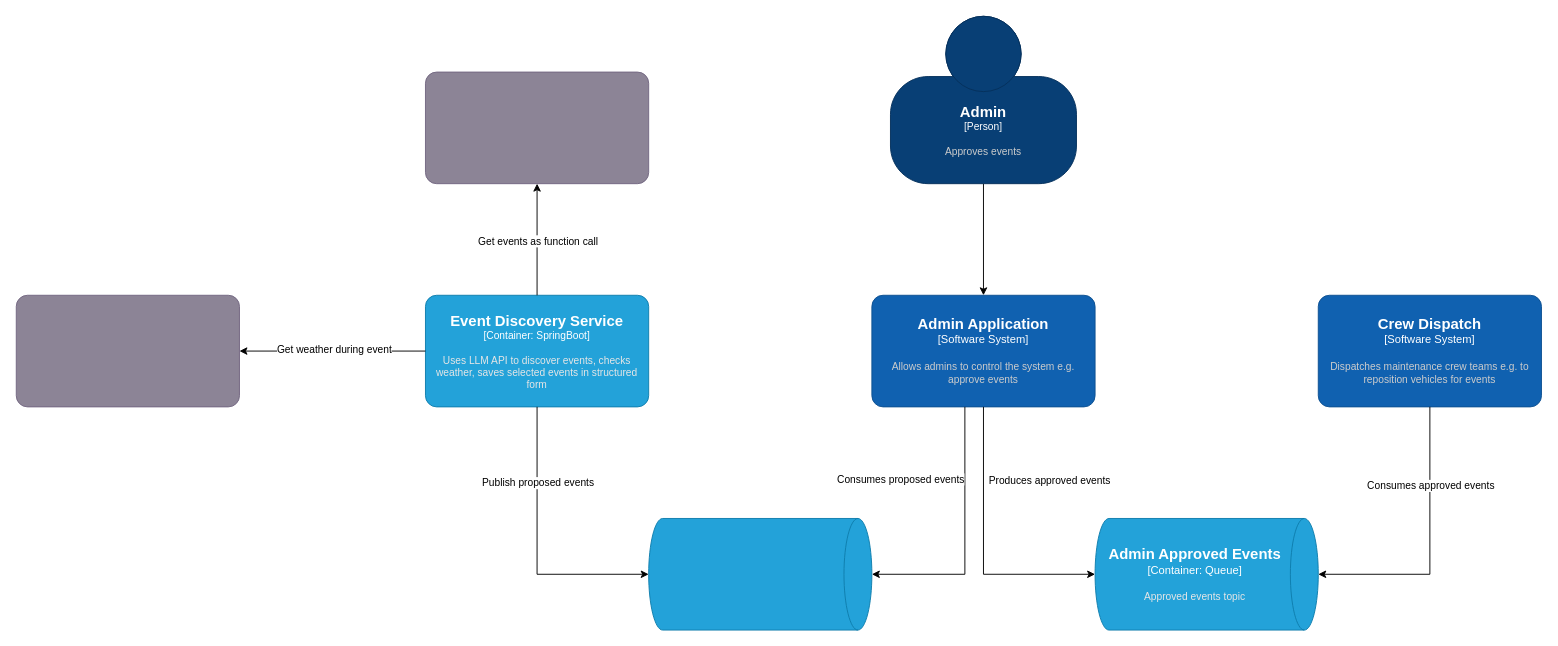
Image size: 1558x646. Some labels were removed from this diagram. Here are the shapes that lost their labels. From the top down, the box of each, then its label:
(425, 71, 649, 184): LLM API [Software System] Generic LLM connected to Internet
(15, 294, 239, 407): Weather API [Software System] Description of external software system.
(648, 518, 872, 630): AI Proposed Events [Container: Queue] Proposed events topic
